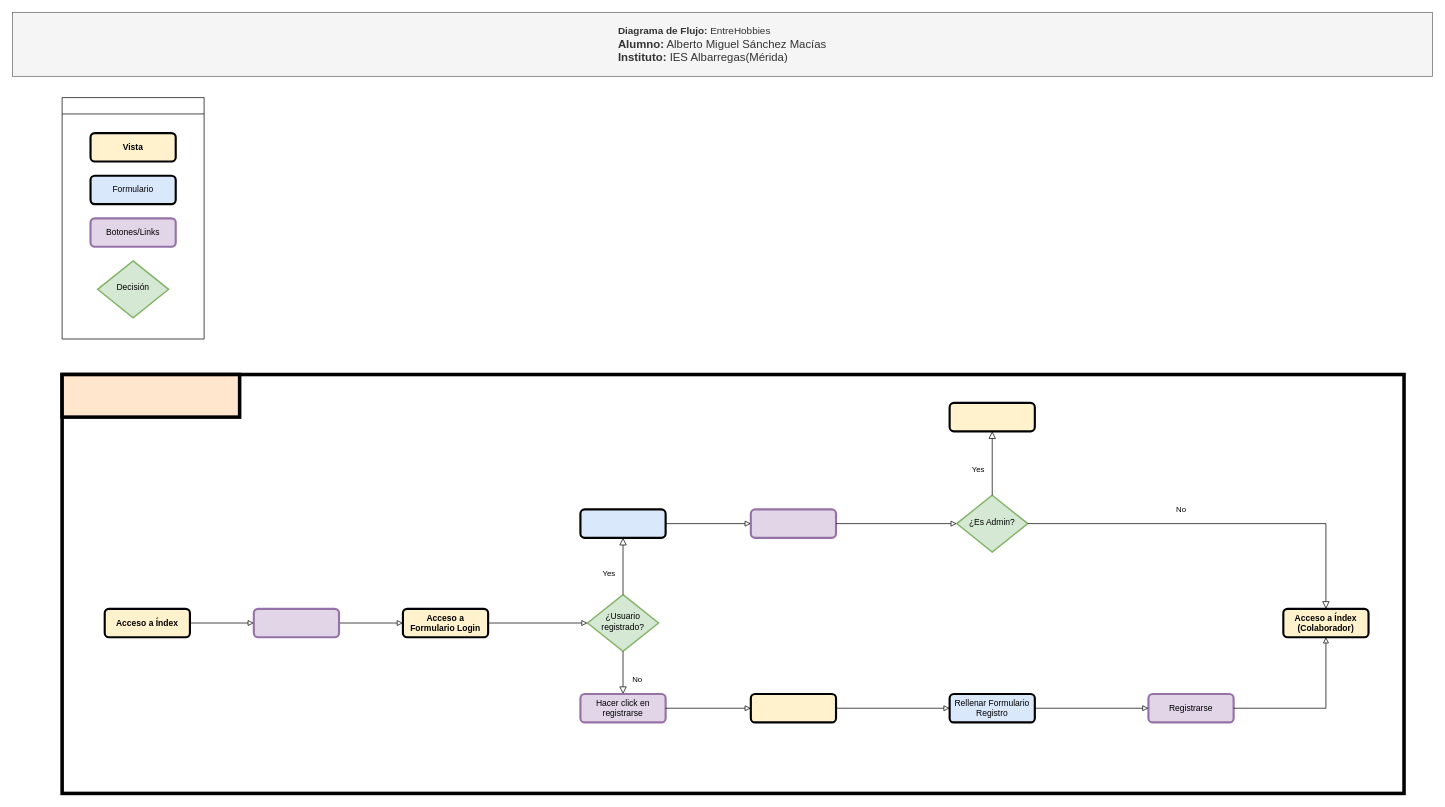
Image size: 1445x807. Some labels were removed from this diagram. Here are the shapes that lost their labels. From the top down, the box of each, then its label:
(61, 97, 204, 339): Leyenda
(60, 372, 241, 419): Login/Registro Usuario
(948, 402, 1036, 432): Acceso a Dashboard (Admin)
(579, 508, 666, 539): Rellenar Formulario Login
(749, 508, 837, 539): Hacer Login
(252, 607, 340, 638): Hacer click en Login
(749, 693, 837, 723): Acceso a Formulario Registro
